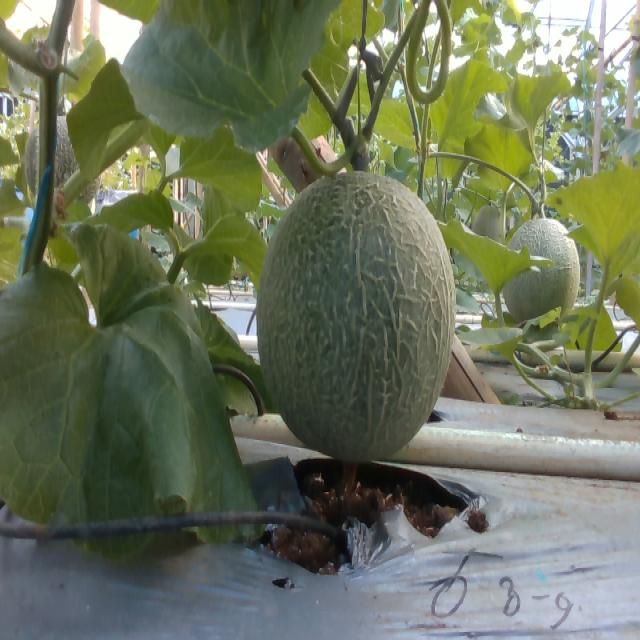melon: (258, 171, 456, 462)
